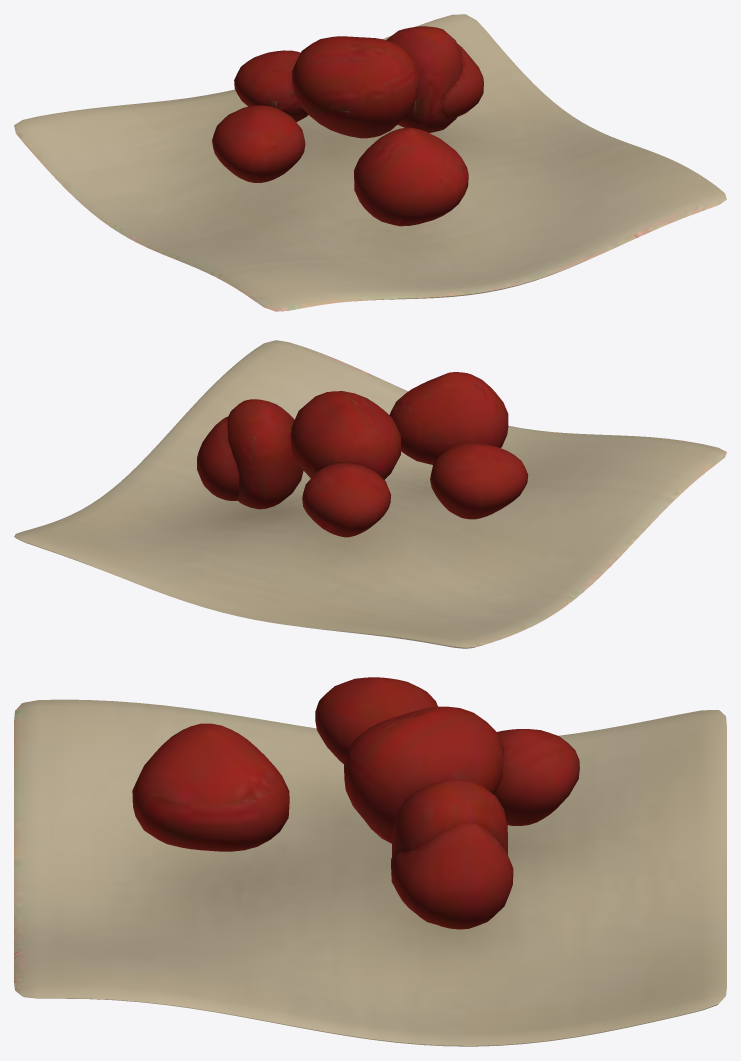
Rendered from cinnabar.glb.
3 renders of one model, top to bottom at view 1: azimuth 30°, elevation 25°; view 2: azimuth 150°, elevation 25°; view 3: azimuth 270°, elevation 25°, orthographic. The views are drawn at different scales.
Parts seen in each view (by area): view 1: cinnabar; view 2: cinnabar; view 3: cinnabar.
Part boxes in pixels (bbox=[...]): cinnabar: bbox=[14, 14, 726, 311]; cinnabar: bbox=[14, 340, 726, 648]; cinnabar: bbox=[14, 677, 726, 1046].
Bounding box in the file's own units: 0.1193 × 0.0365 × 0.1193.
Materials: 1 (1 with a texture image).
